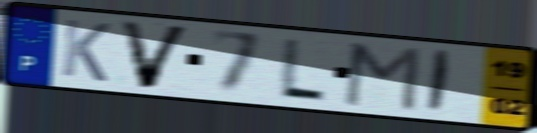7: (209, 27, 264, 97)
I: (423, 47, 456, 115)
K: (59, 16, 114, 85)
L: (274, 35, 329, 104)
M: (340, 41, 424, 114)
V: (116, 18, 195, 91)
